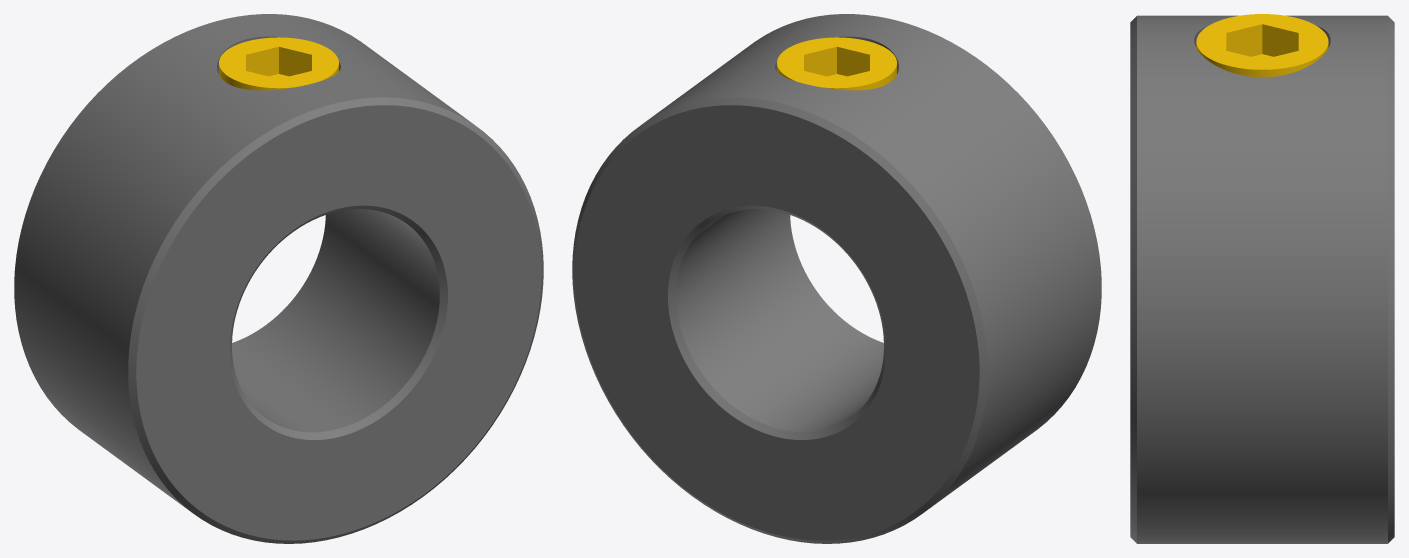
File: assembly.glb
The picture shows the model from 3 angles, left to right: view 1: azimuth 30°, elevation 25°; view 2: azimuth 150°, elevation 25°; view 3: azimuth 270°, elevation 25°; orthographic projection. The views are drawn at different scales.
Visible parts, largest first — view 1: SOLID (×2); view 2: SOLID (×2); view 3: SOLID (×2).
Part boxes in pixels (x1=…): SOLID (×2): x1=14, y1=14, x2=543, y2=543; SOLID (×2): x1=572, y1=14, x2=1101, y2=543; SOLID (×2): x1=1130, y1=14, x2=1394, y2=543.
Size of the model in its own units: 0.016 by 0.016 by 0.008.
